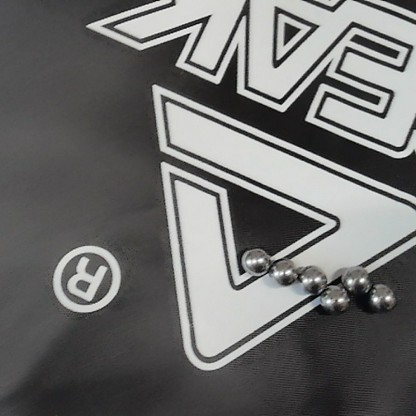ironball: (318, 283, 347, 312), (298, 264, 325, 291), (242, 246, 268, 274), (270, 258, 296, 284), (368, 286, 394, 311), (343, 266, 367, 293)
